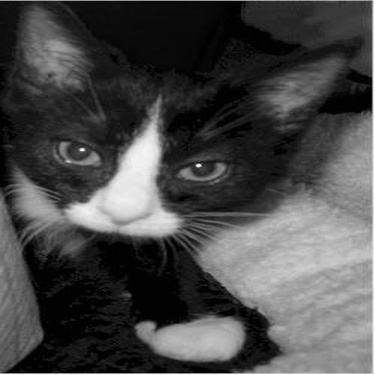cat: (7, 5, 338, 369)
